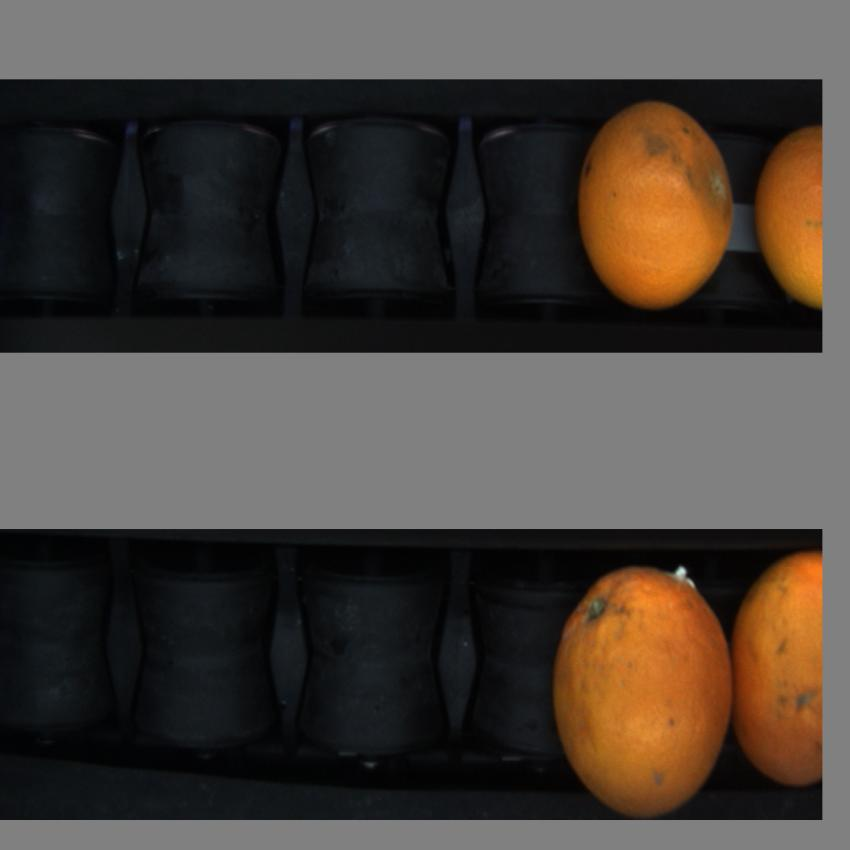Buen estado: (550, 559, 733, 820), (732, 544, 822, 801), (753, 117, 821, 323)
Mal estado: (577, 97, 736, 309)
